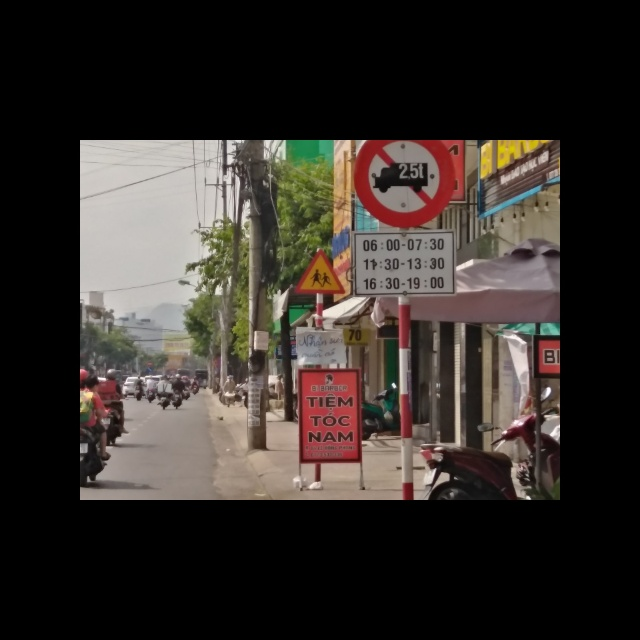Cấm xe tải: (352, 140, 459, 231)
Trẻ em ngang qua: (295, 249, 348, 295)
